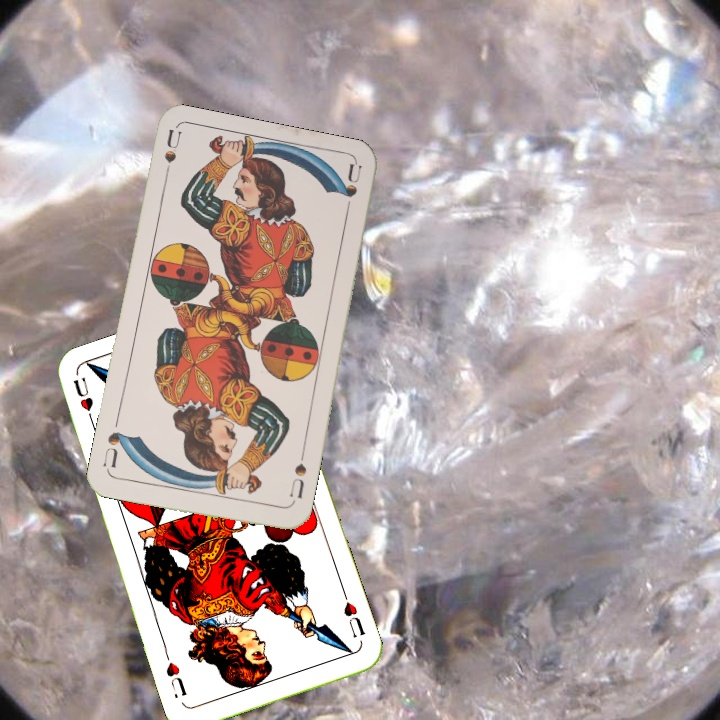HU: (69, 373, 98, 430), (339, 588, 368, 640)
SU: (160, 127, 184, 187), (285, 459, 309, 501)
